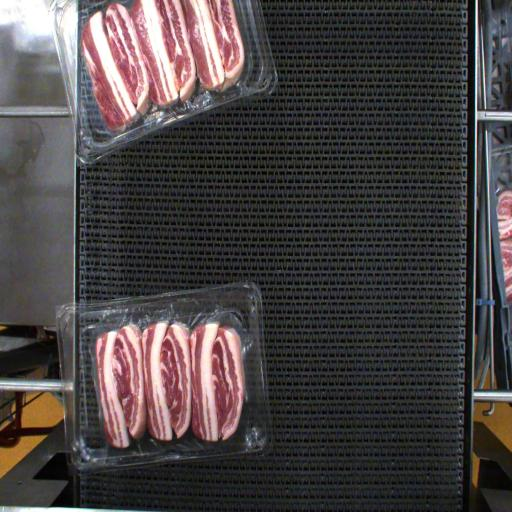unsealed: (73, 283, 271, 466)
